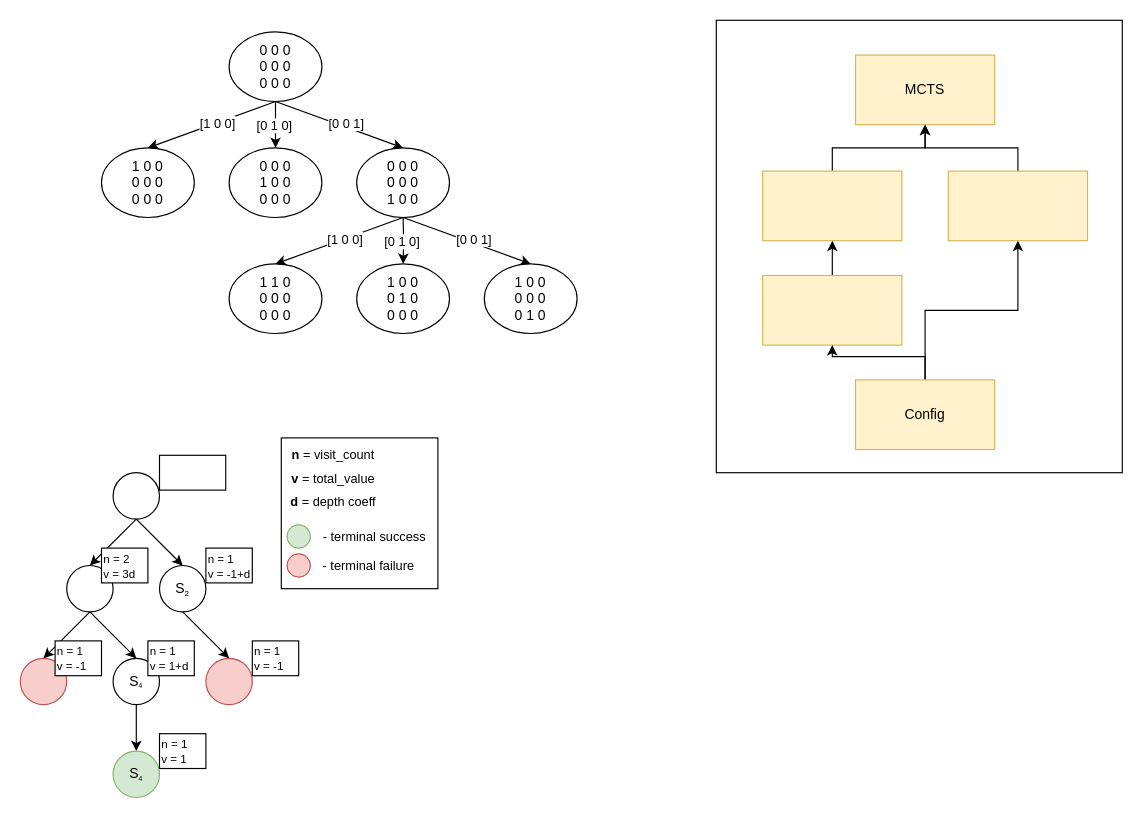
This 1143x818 diagram has some shape labels left out. The shapes that lost their labels are listed below. From the top down, each one's box as (x1, y1, x2, y2) in pixels, then its label:
(762, 170, 902, 241): Game Matrix
(947, 170, 1088, 241): Shared Memory
(762, 274, 902, 345): Conditions
(158, 454, 226, 490): n = 3 v = -1+5d
(112, 472, 160, 519): S 0
(66, 564, 113, 612): S 1
(19, 657, 67, 705): S 3
(205, 657, 252, 705): S 5
